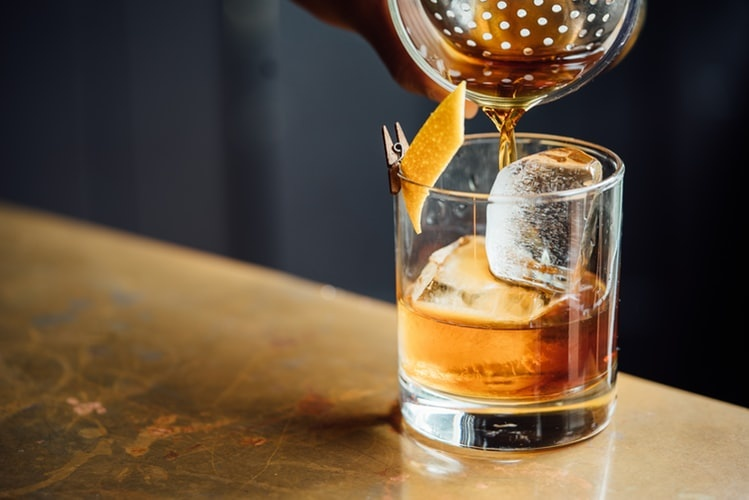whiskey: (392, 136, 626, 455)
